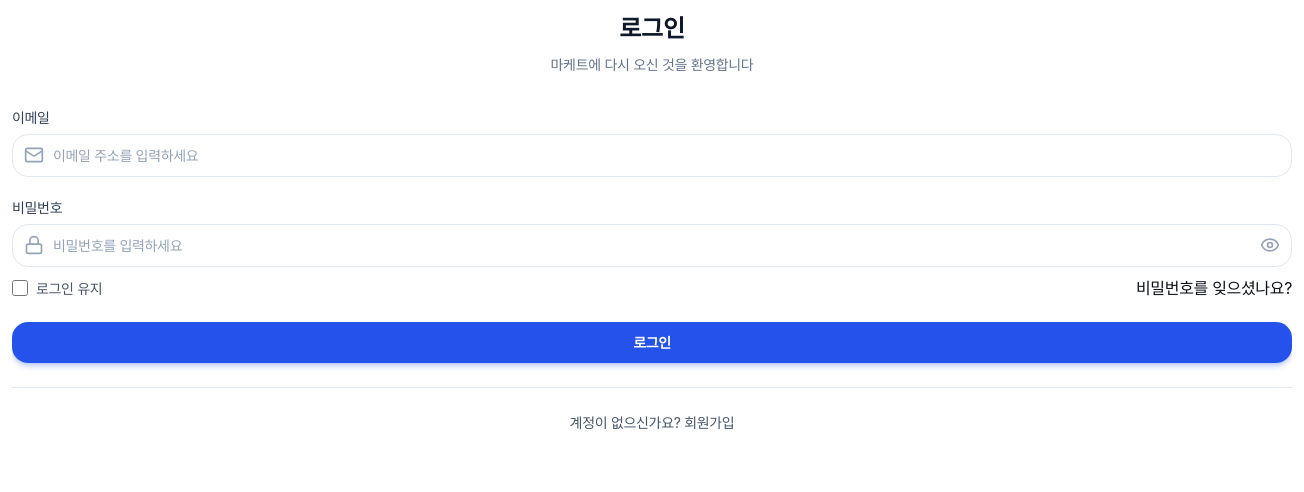
Test case: LoginForm › 유효성 검사 › 빈 이메일 제출 시 에러 메시지를 표시한다
What coordinates should you click on to do the following:
click the button "로그인"
I would click on:
 (652, 342)
Its box is [12, 322, 1292, 363].
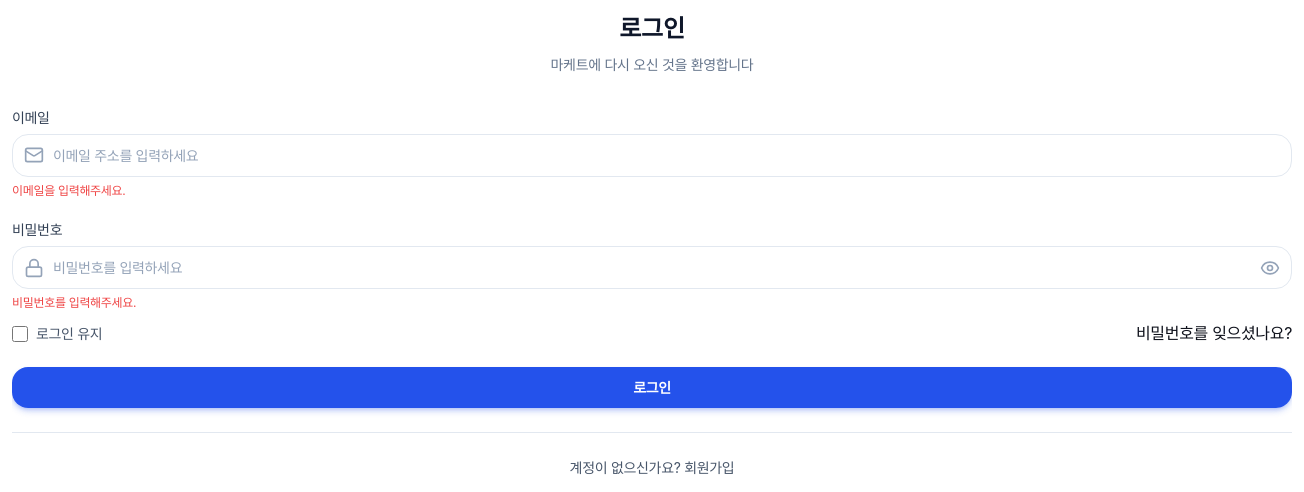
Now the text "이메일을 입력해주세요." is shown, box [12, 183, 125, 198]
